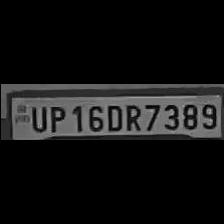1: (67, 102, 85, 132)
3: (160, 100, 180, 130)
6: (84, 102, 103, 132)
7: (141, 100, 159, 130)
8: (179, 100, 199, 130)
9: (198, 102, 218, 131)
D: (104, 101, 122, 131)
P: (45, 103, 65, 133)
R: (122, 101, 142, 131)
U: (26, 104, 46, 132)
